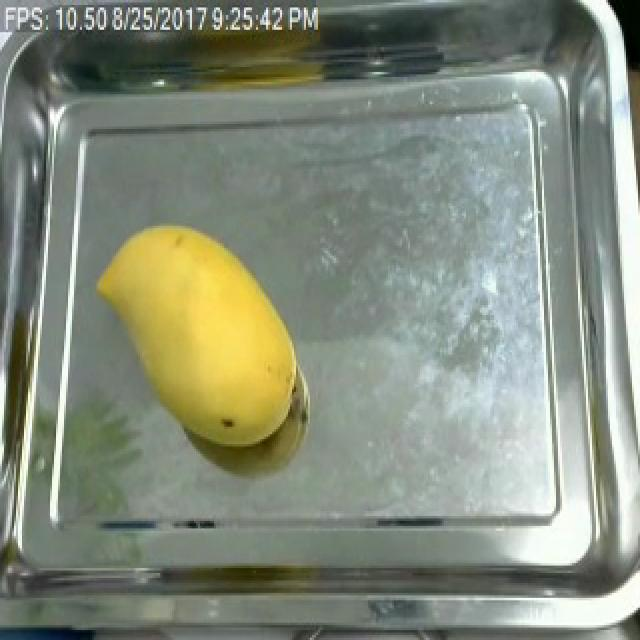fruit: (86, 211, 310, 464)
